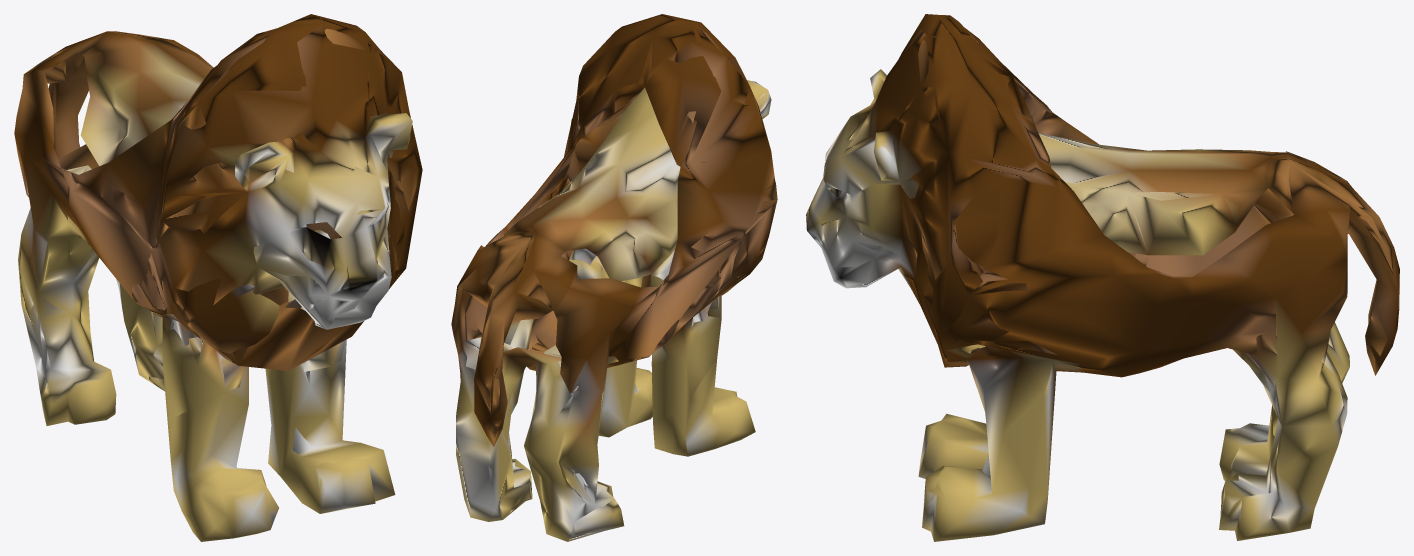
Rendered from gen3d-male-lion-lod0.glb.
3 renders of one model, left to right at view 1: azimuth 30°, elevation 25°; view 2: azimuth 150°, elevation 25°; view 3: azimuth 270°, elevation 25°, orthographic. The views are drawn at different scales.
Parts seen in each view (by area): view 1: part_0; view 2: part_0; view 3: part_0.
Boxes of the visible parts, x1,y1,x2,y2 form: part_0: (14,14,422,541); part_0: (451,14,777,541); part_0: (806,14,1399,541).
Size of the model in its own units: 0.5533 by 1 by 1.13.
